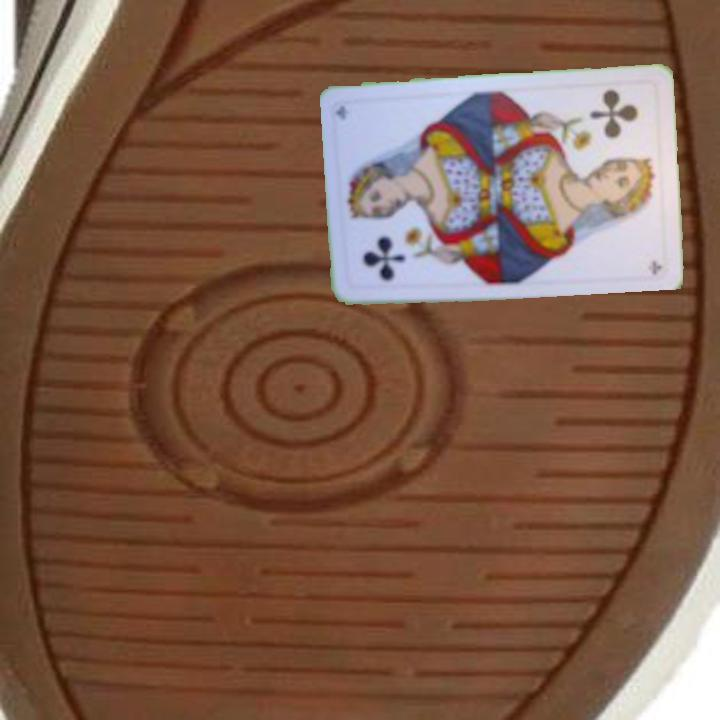c_q.png: (571, 80, 663, 185), (341, 188, 432, 292)
